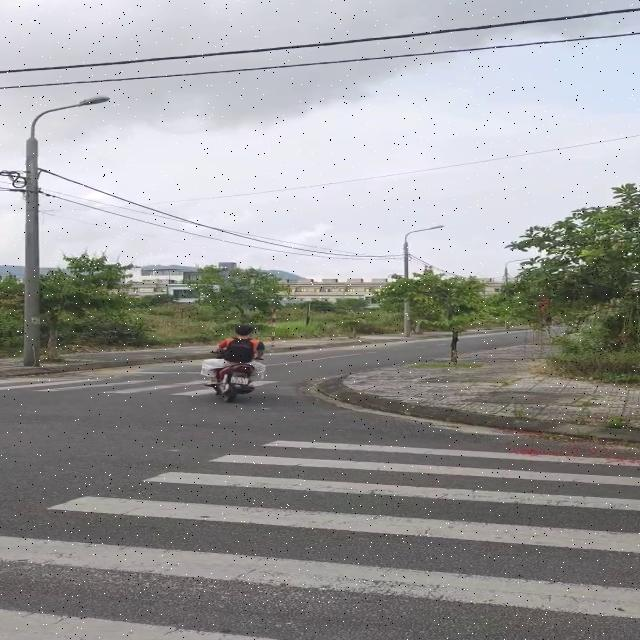no_helmet: (232, 322, 255, 341)
